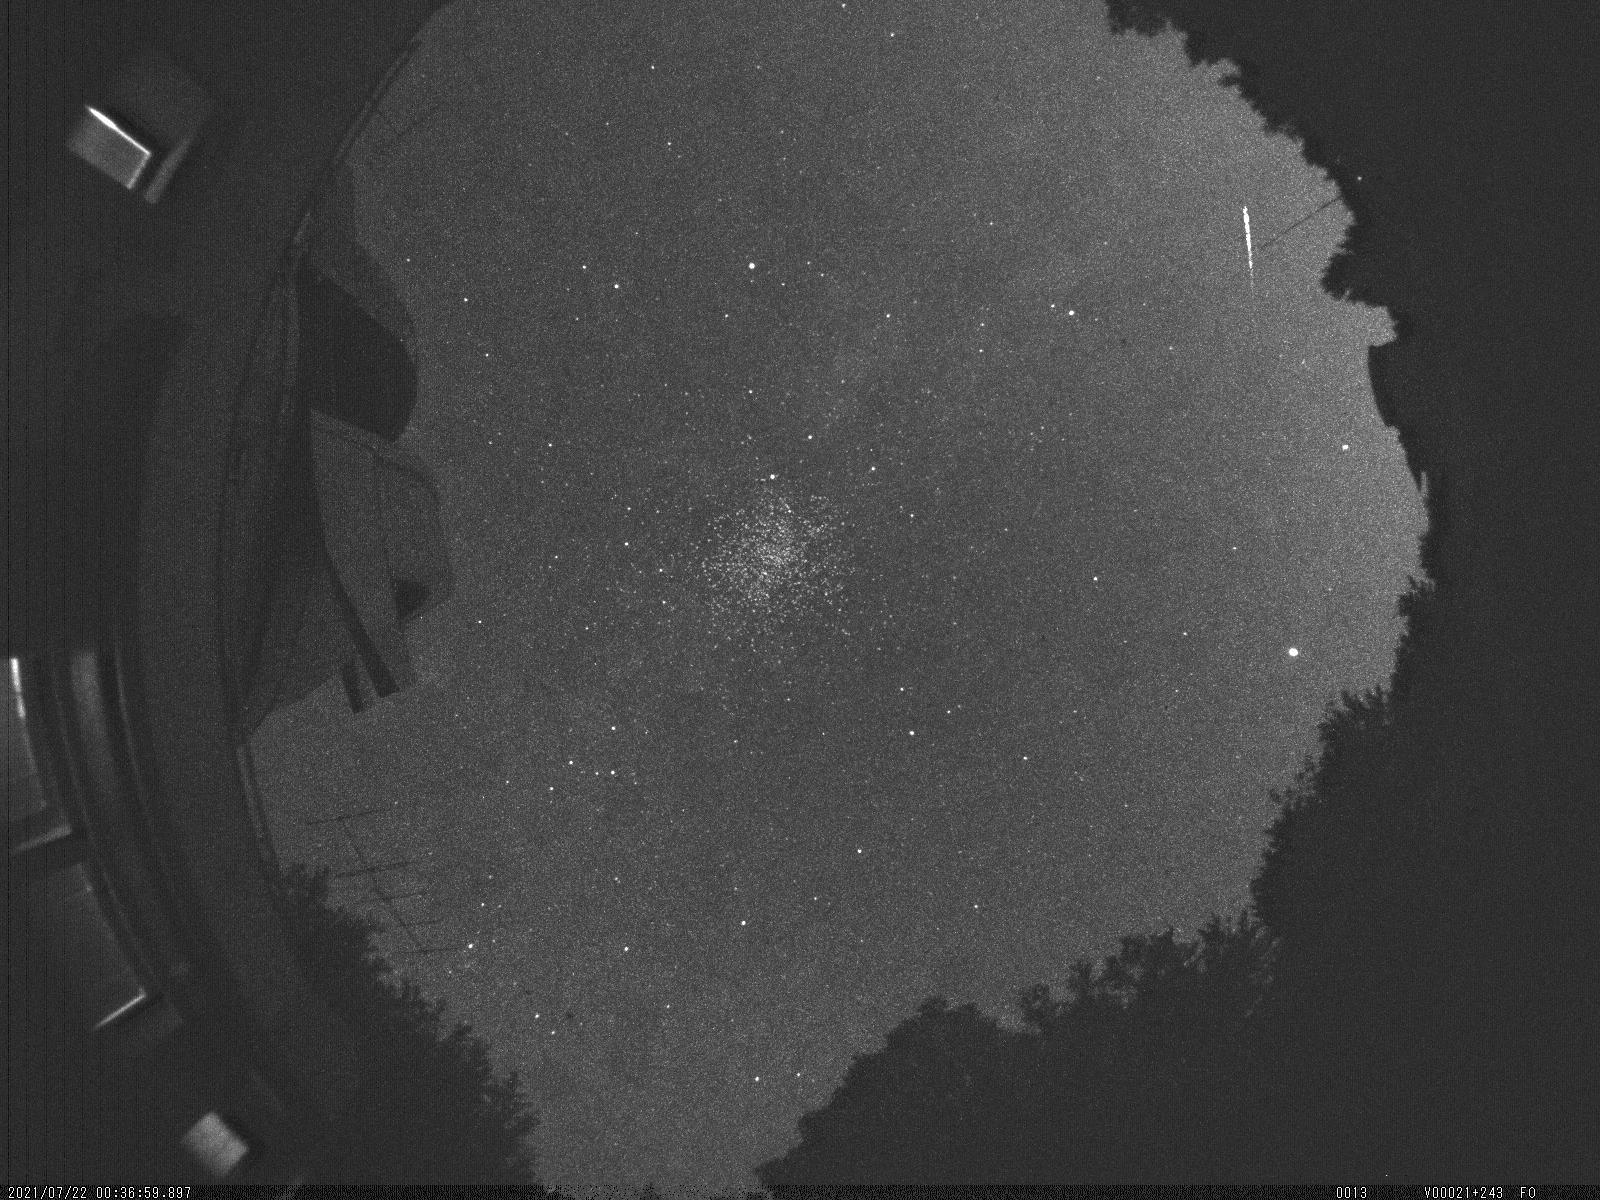Meteor: (1235, 189, 1262, 314)
